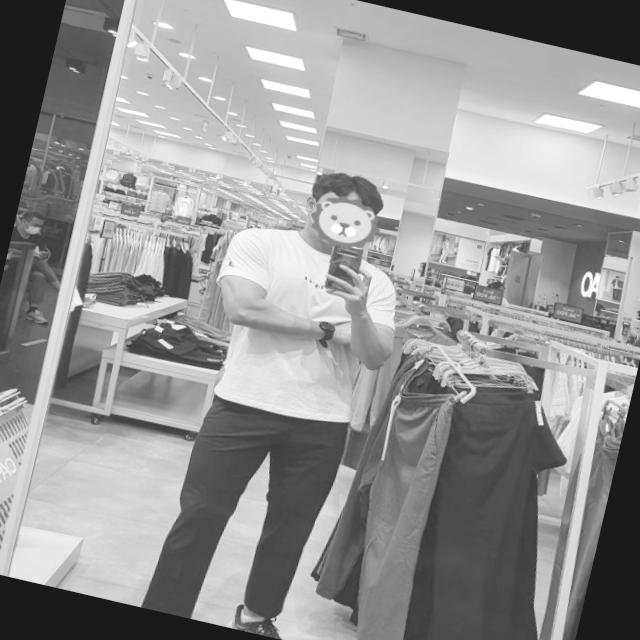shortsleeve: (186, 218, 414, 435)
slacks: (139, 385, 355, 640)
